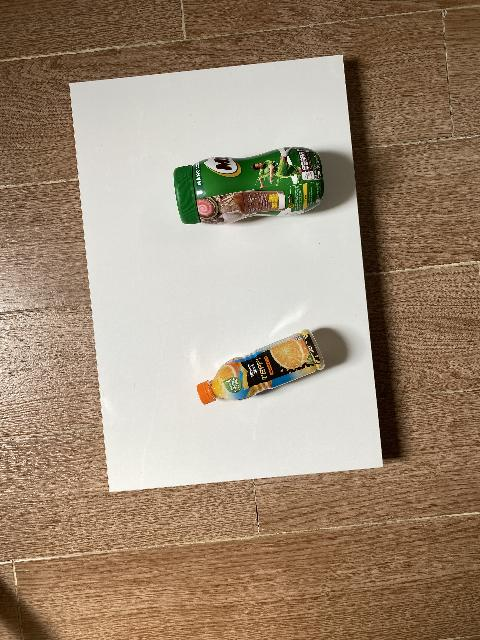milo: (173, 147, 324, 225)
teppy_orange_juice: (197, 329, 325, 405)
